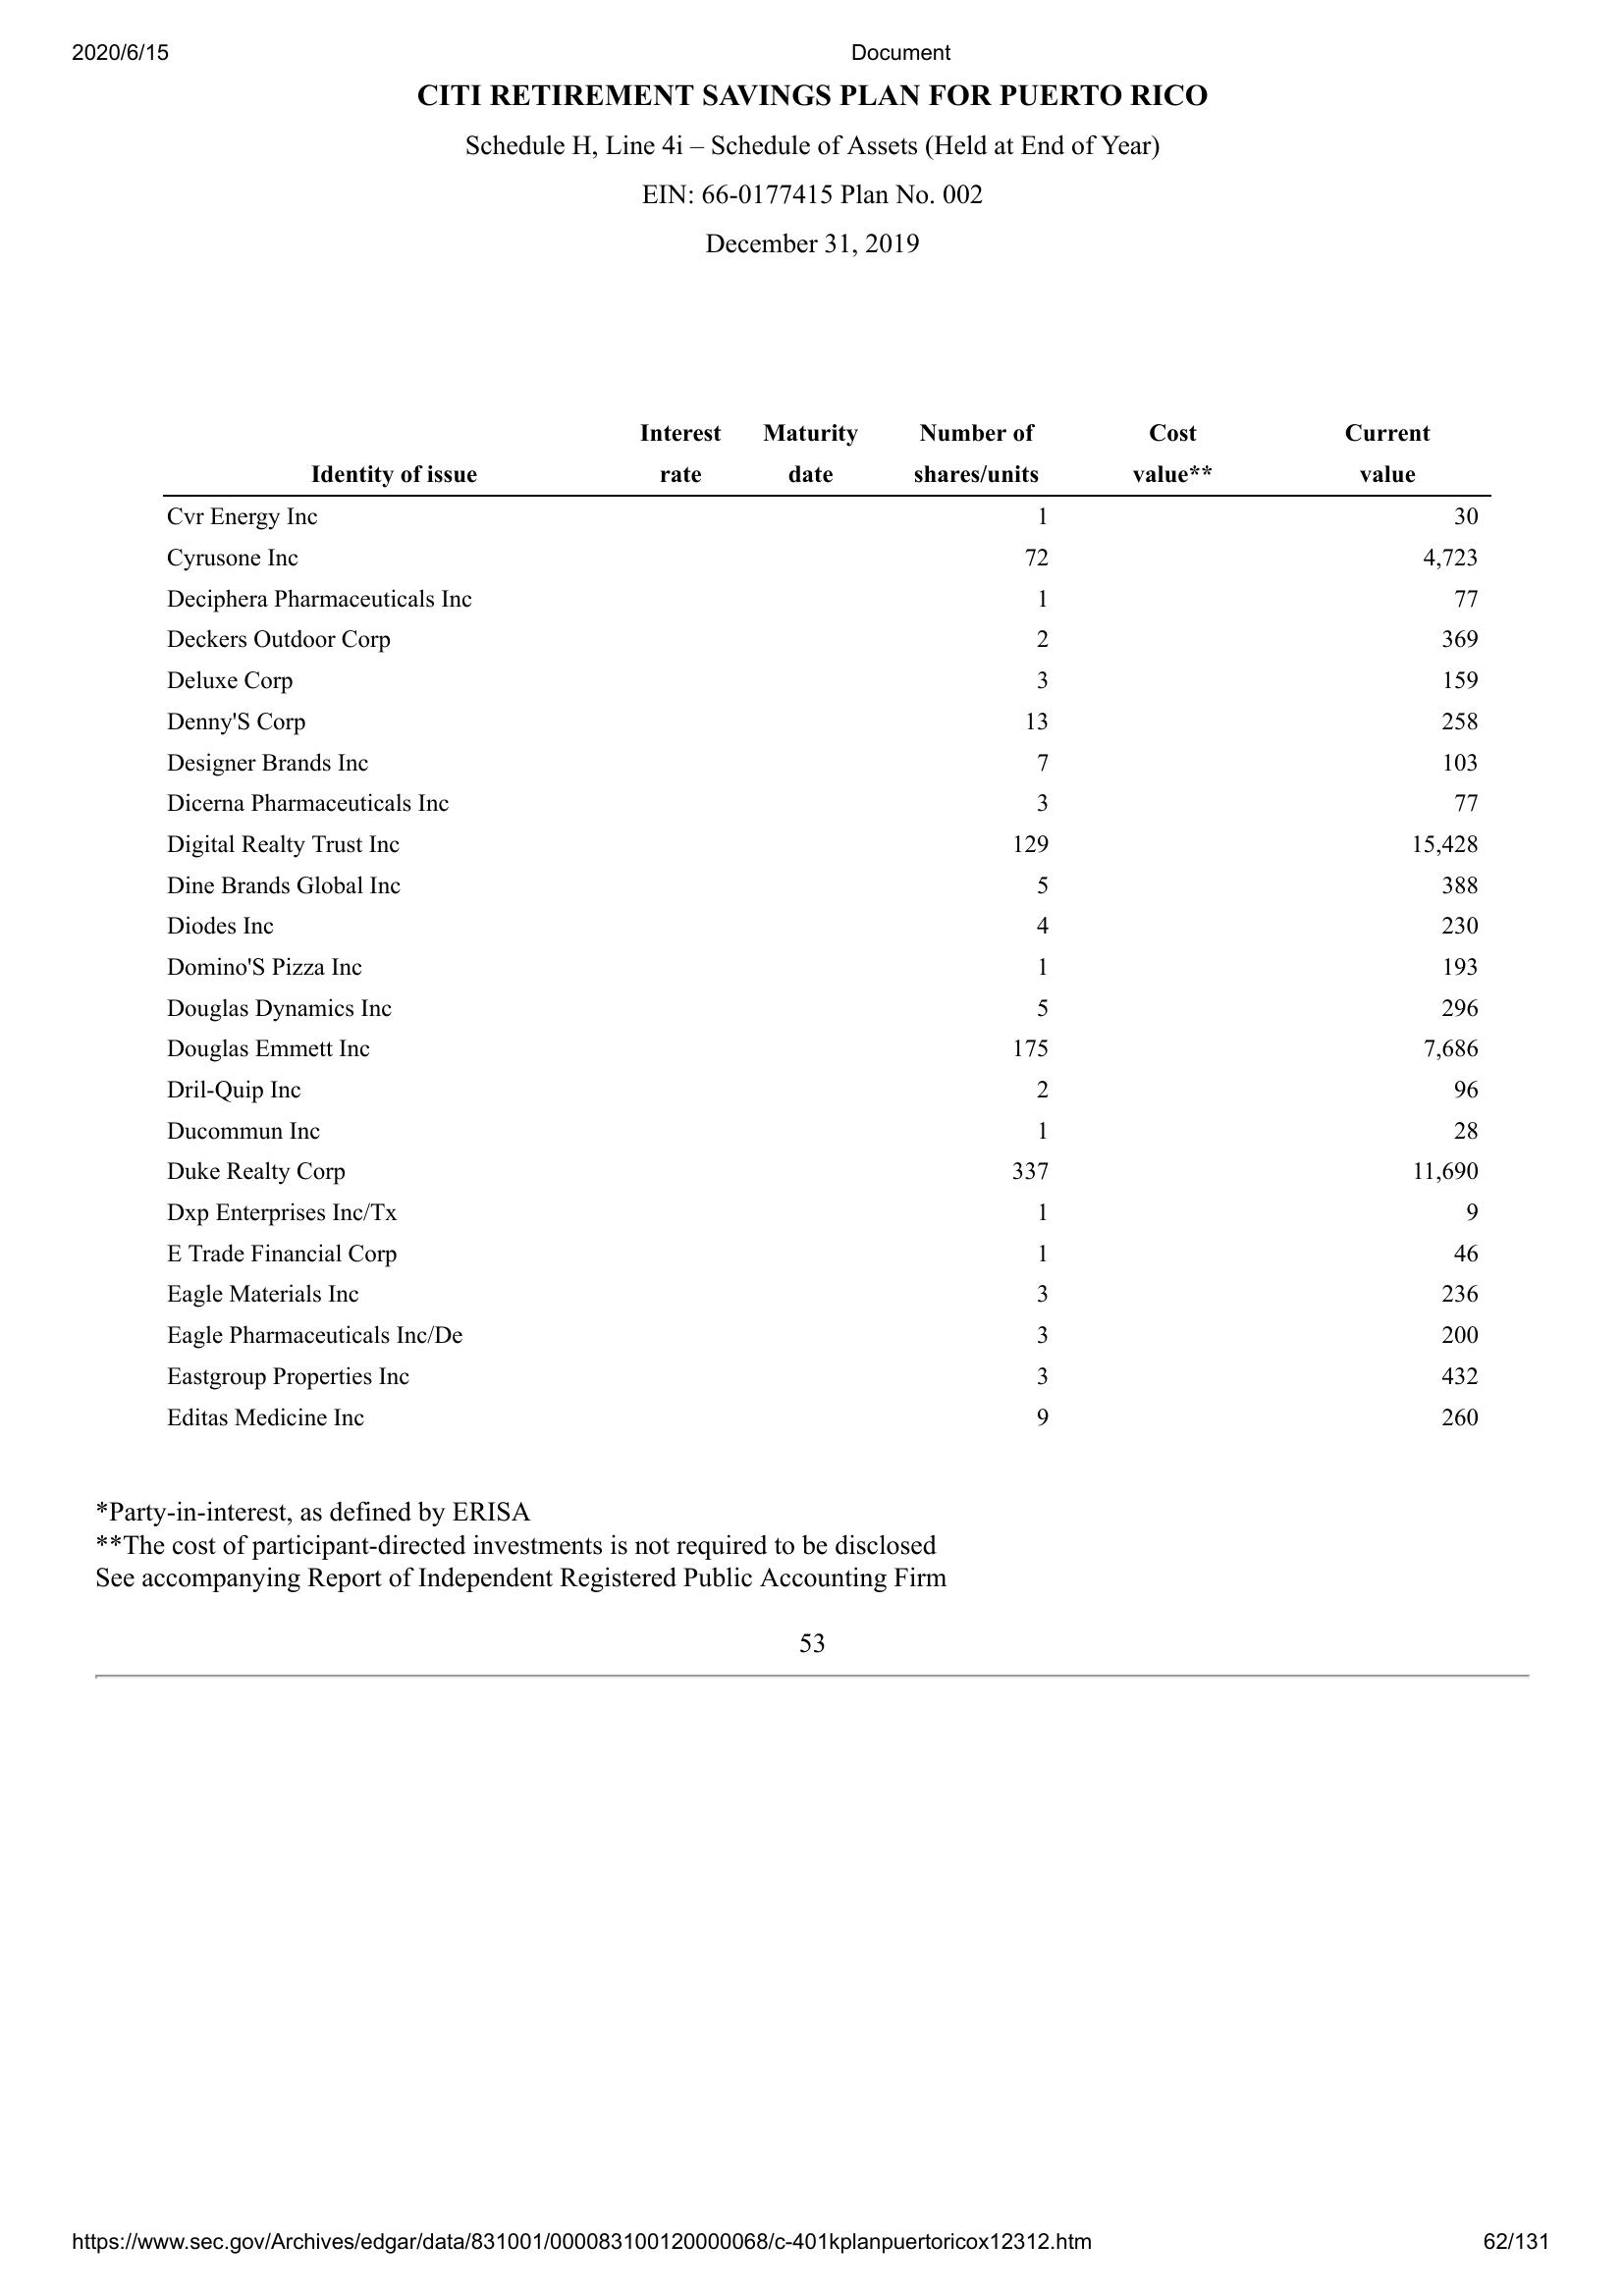table: (153, 418, 1493, 1436)
